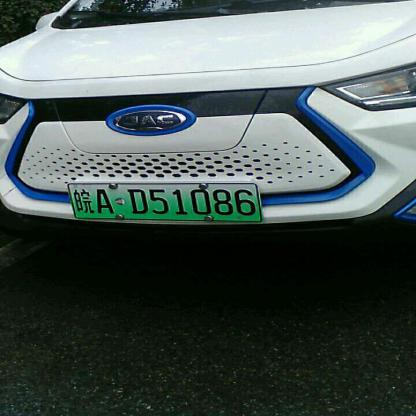lp: (66, 182, 262, 219)
